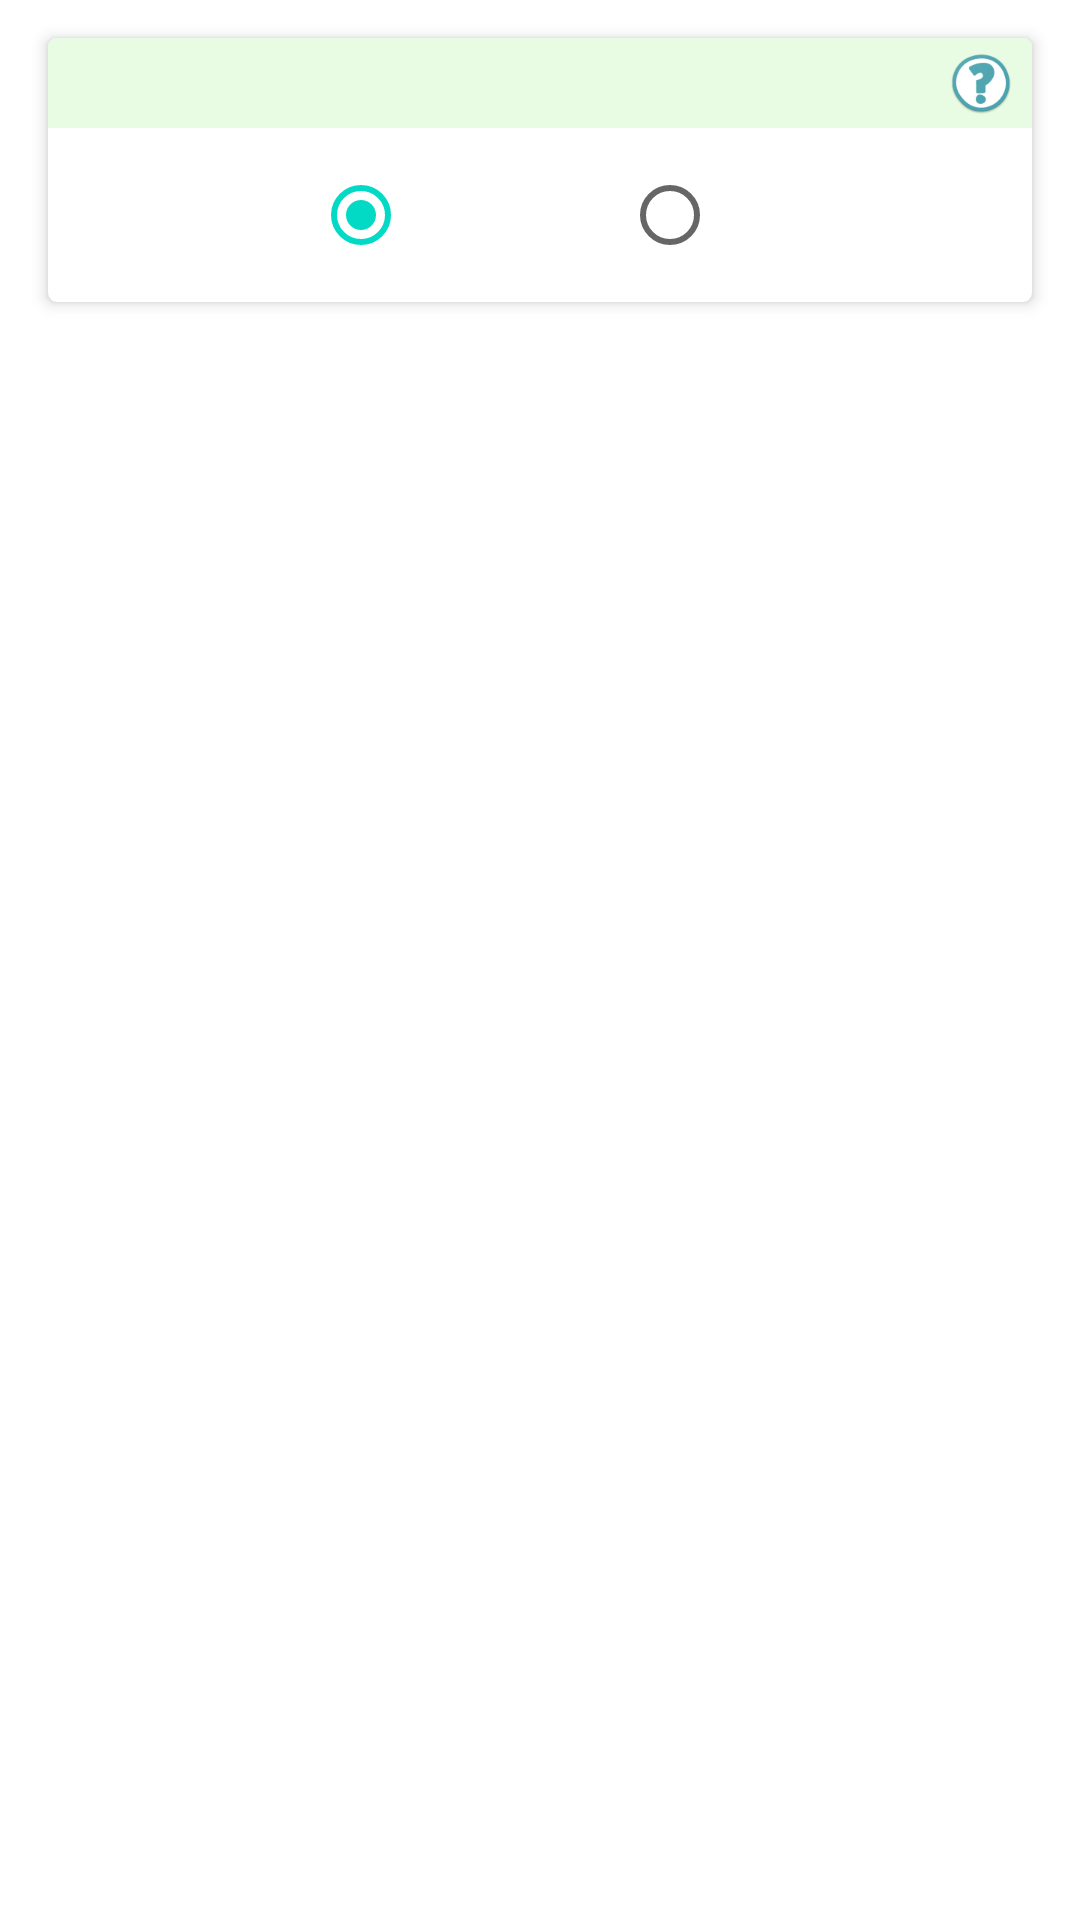

Icons on this 1080px x 1920px Android screen, each with the point to tap as (x=x, y=y):
ayuda user: (x=981, y=83)
